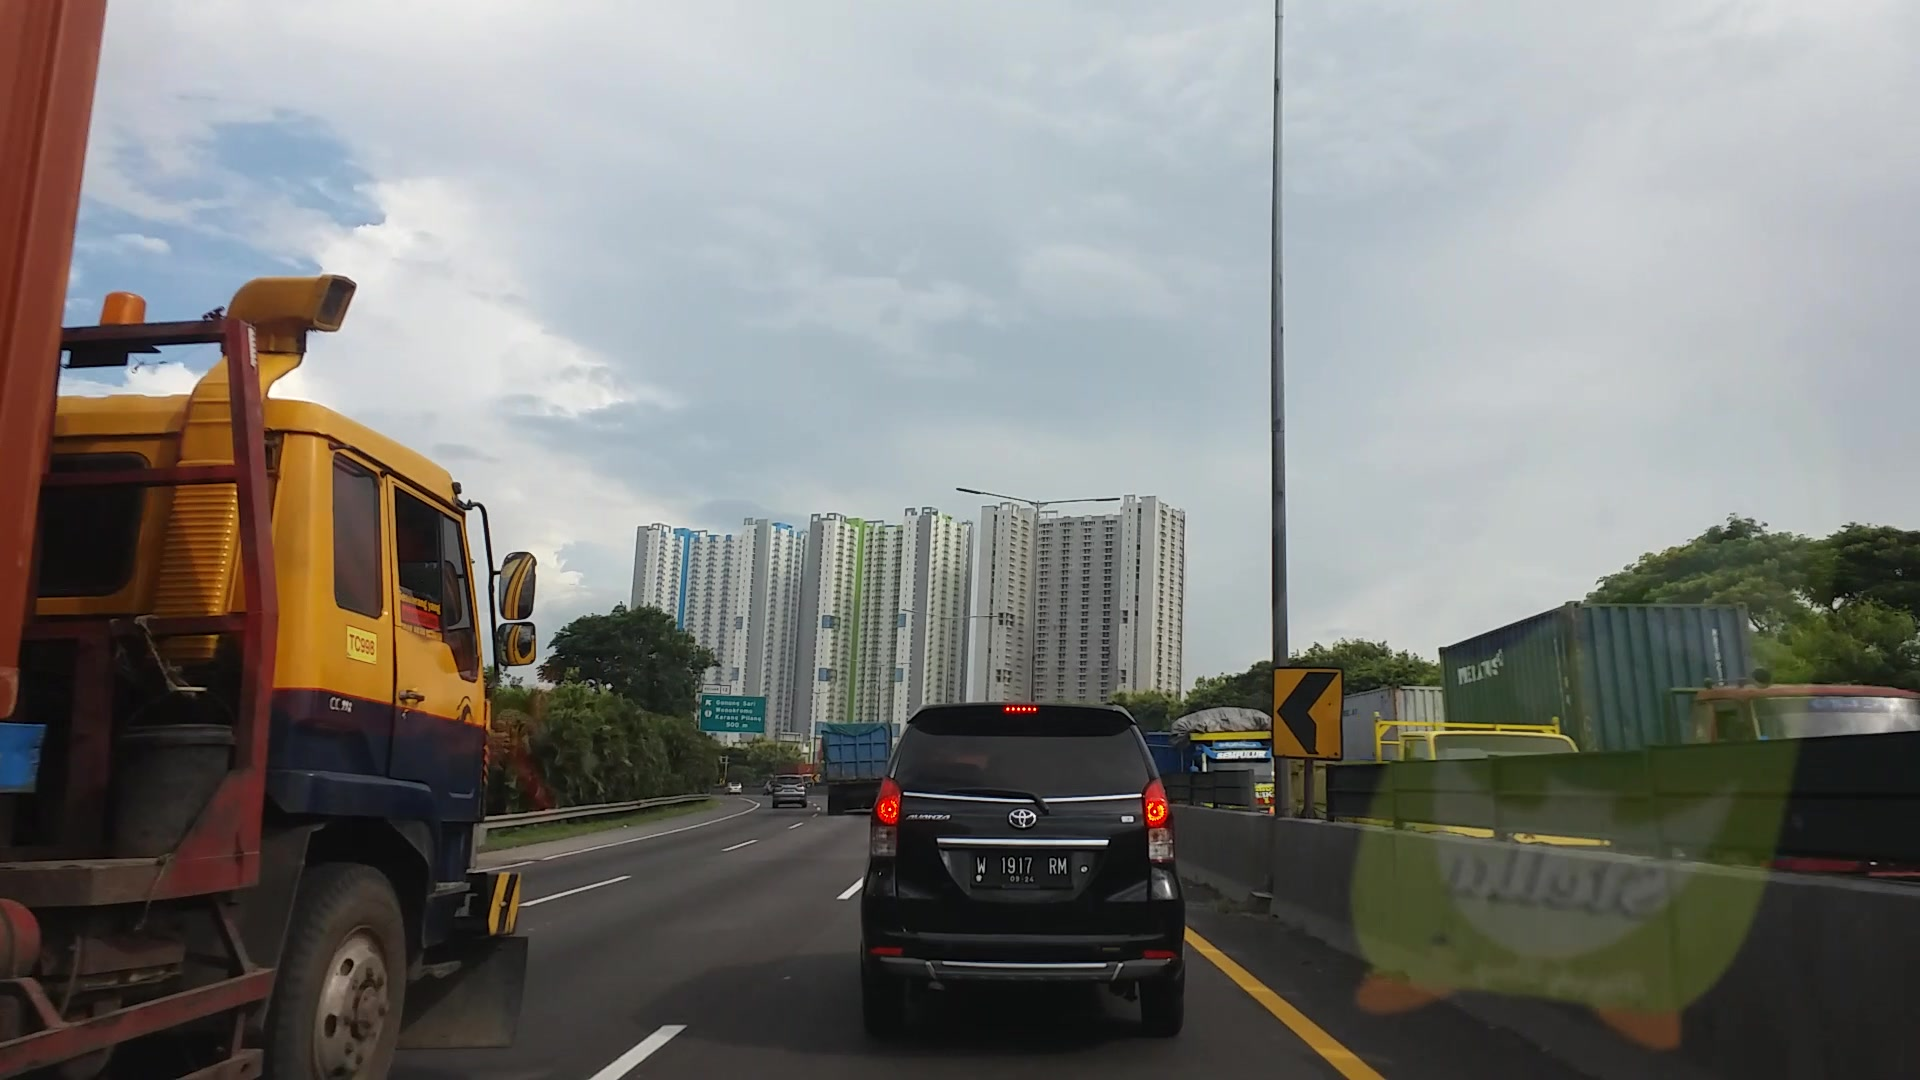plate_positive: (972, 851, 1073, 890)
